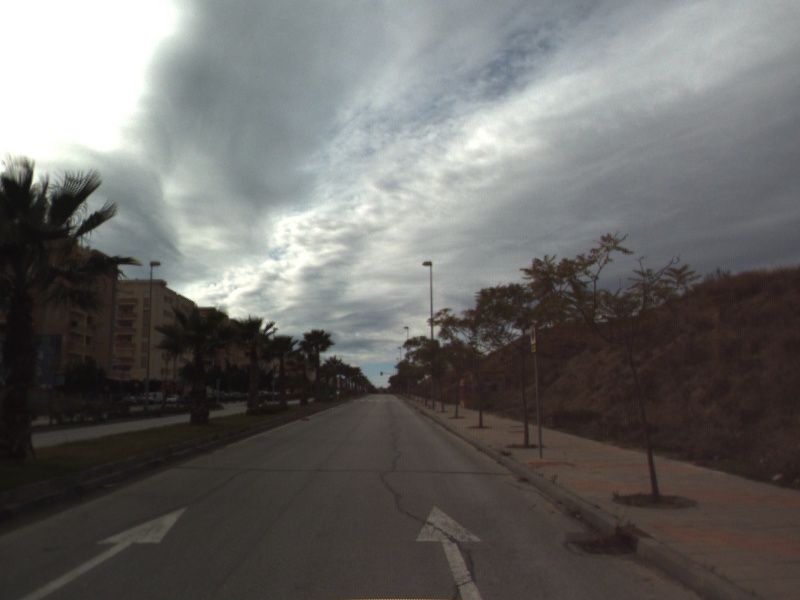STRAIGHT: (15, 504, 192, 600), (412, 502, 487, 600)
